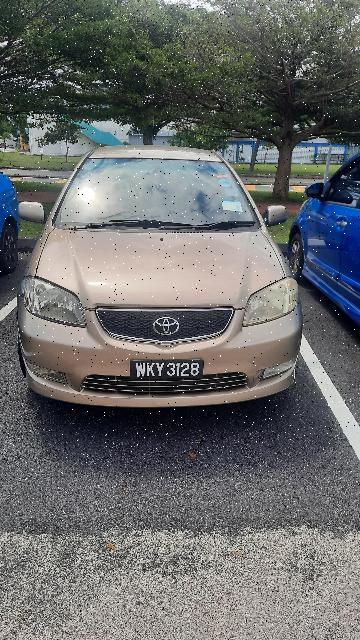License_Plate: (126, 353, 206, 385)
car: (15, 139, 310, 411)
